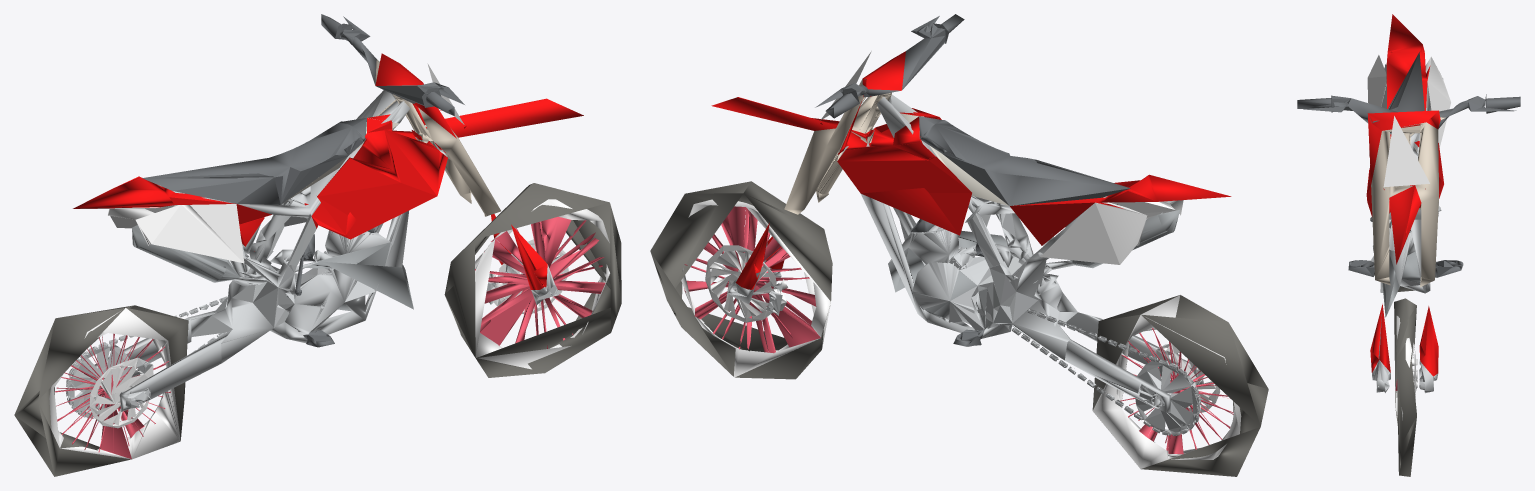
Rendered from veh-mx.glb.
3 views of the same model, side by side, from view 1: azimuth 30°, elevation 25°; view 2: azimuth 150°, elevation 25°; view 3: azimuth 270°, elevation 25° (orthographic). The views are drawn at different scales.
Parts seen in each view (by area): view 1: Object_10; view 2: Object_10; view 3: Object_10.
Boxes of the visible parts, x1=… form: Object_10: x1=14, y1=14, x2=621, y2=476; Object_10: x1=650, y1=14, x2=1268, y2=476; Object_10: x1=1297, y1=14, x2=1520, y2=476.
Size of the model in its own units: 154 by 86.47 by 55.63.
